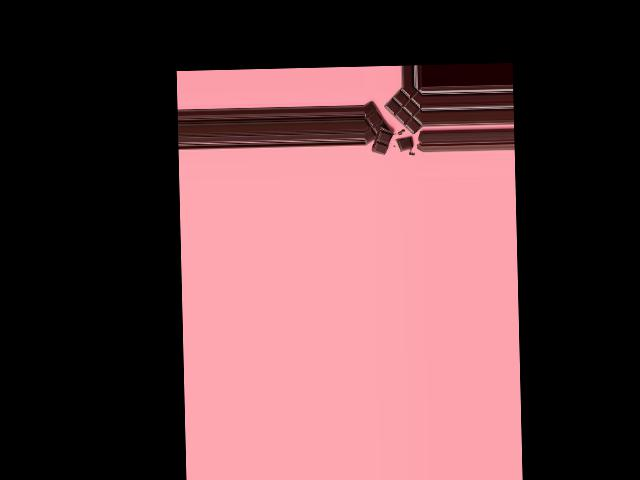chocolate: (367, 86, 423, 151)
